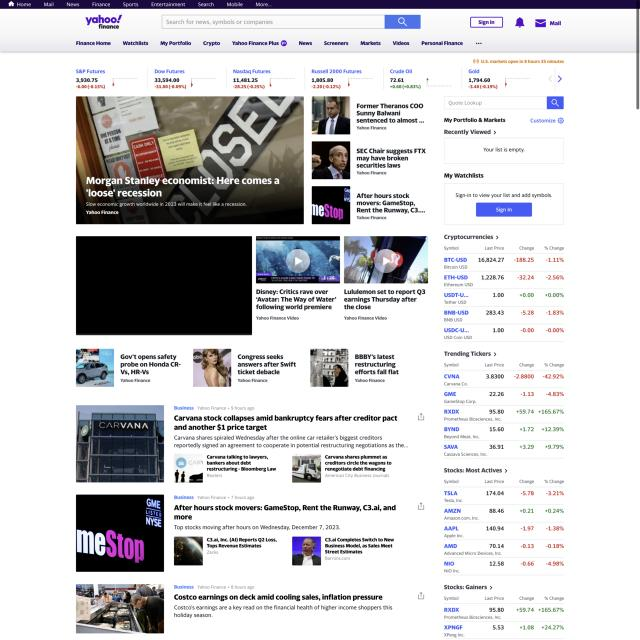content: (73, 400, 433, 636)
input: (161, 14, 421, 29), (444, 96, 564, 110)
logo: (85, 14, 124, 30)
navigation: (75, 39, 484, 47), (0, 0, 277, 8), (544, 66, 566, 94)
video: (256, 235, 340, 283), (344, 236, 428, 284)
